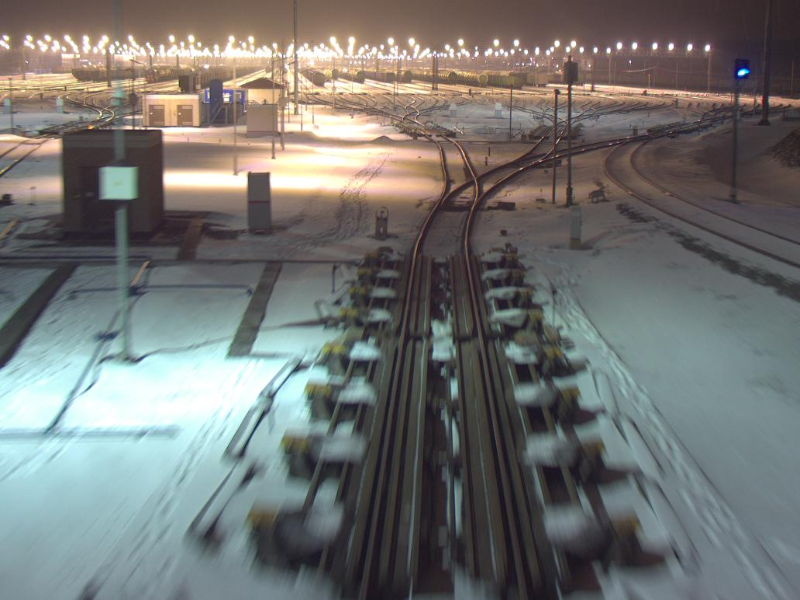left: (442, 175, 478, 210)
